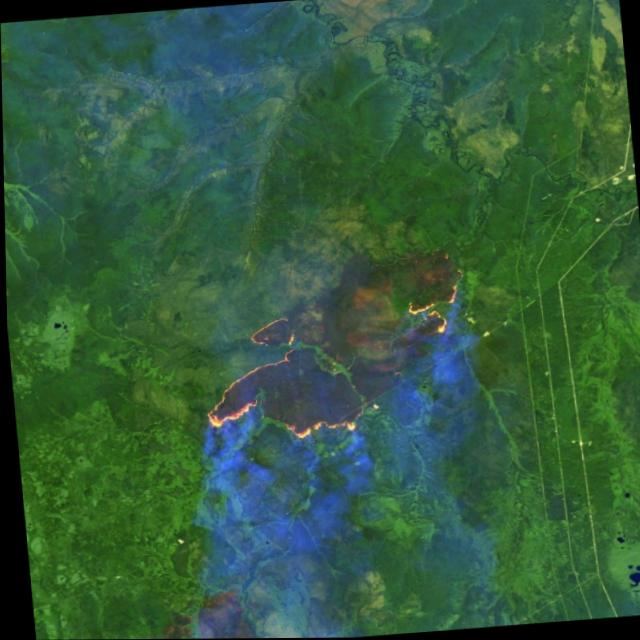fire: (189, 307, 367, 449), (394, 278, 470, 341)
